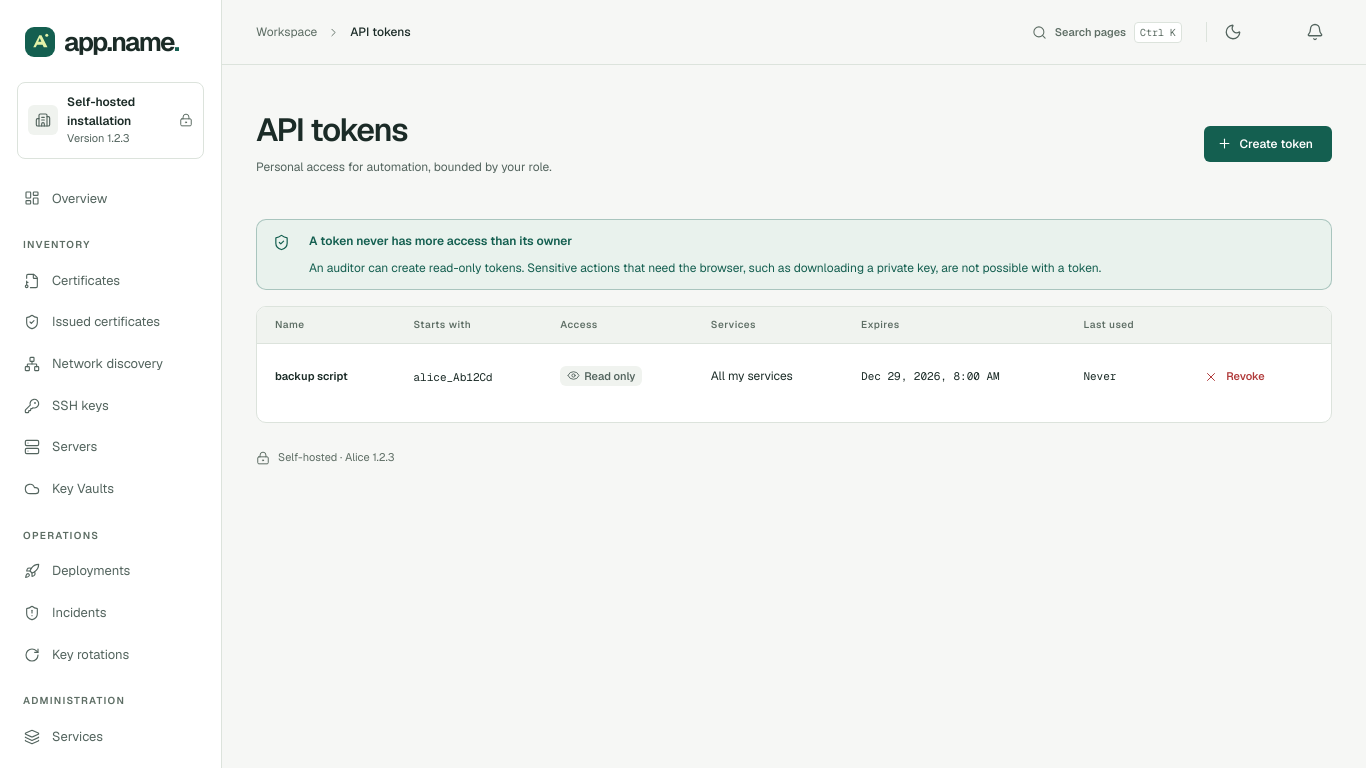
Test: TokensPage › keeps the dialogs open with the server error, and closes them on Cancel or close
Click the button "Create token": (1268, 144) [1204, 126, 1332, 162]
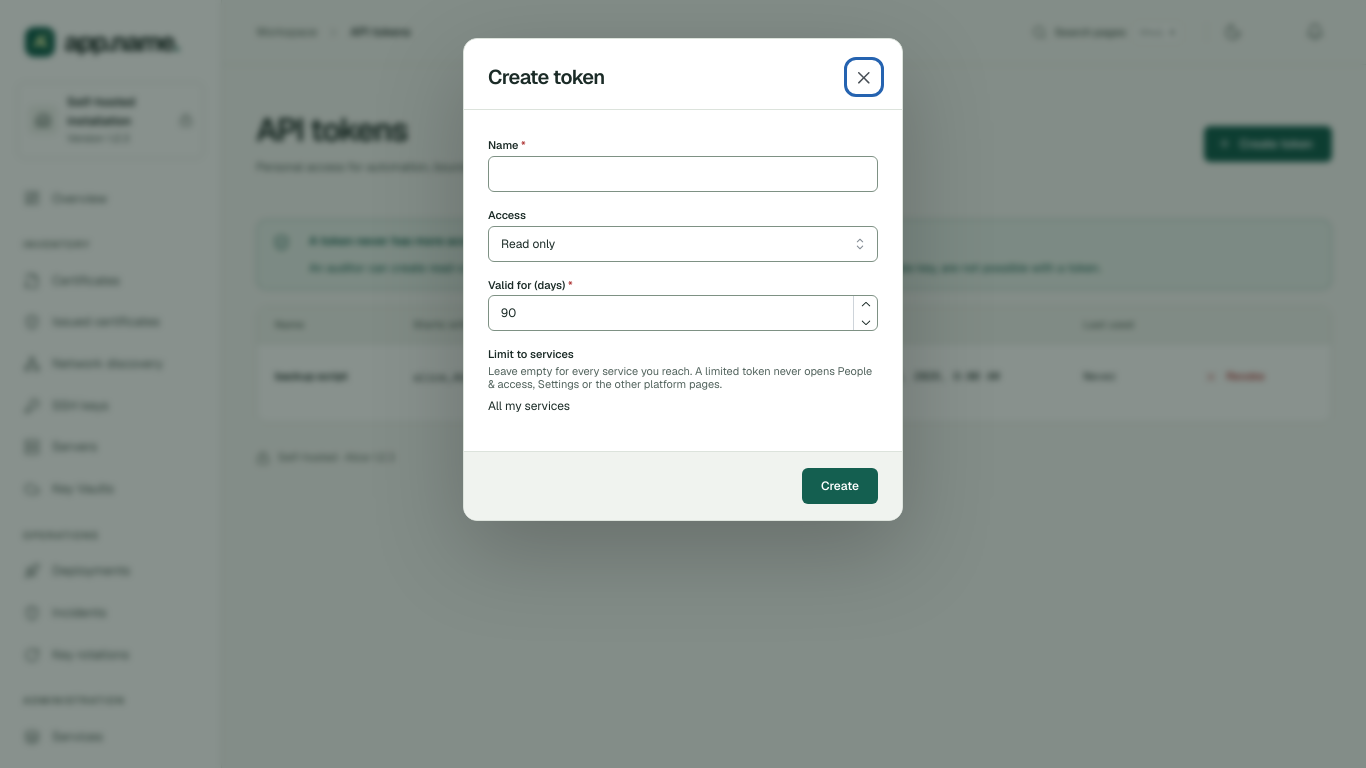
In the field labelled "Name *": (683, 174) [488, 156, 878, 192], type "ci"
Click the button "Create": (840, 486) [802, 468, 878, 504]
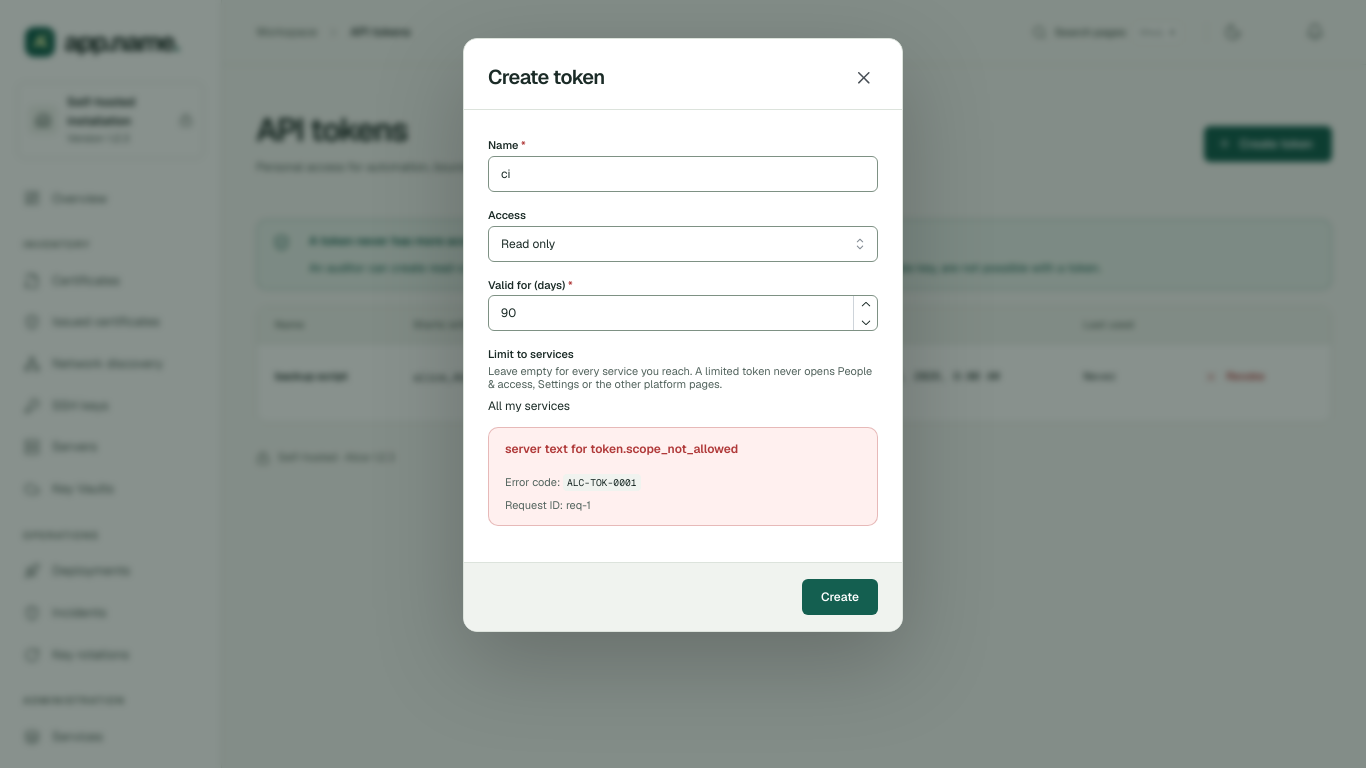
Expected: the message shows "ALC-TOK-0001", [567, 476, 636, 488]
Press Escape
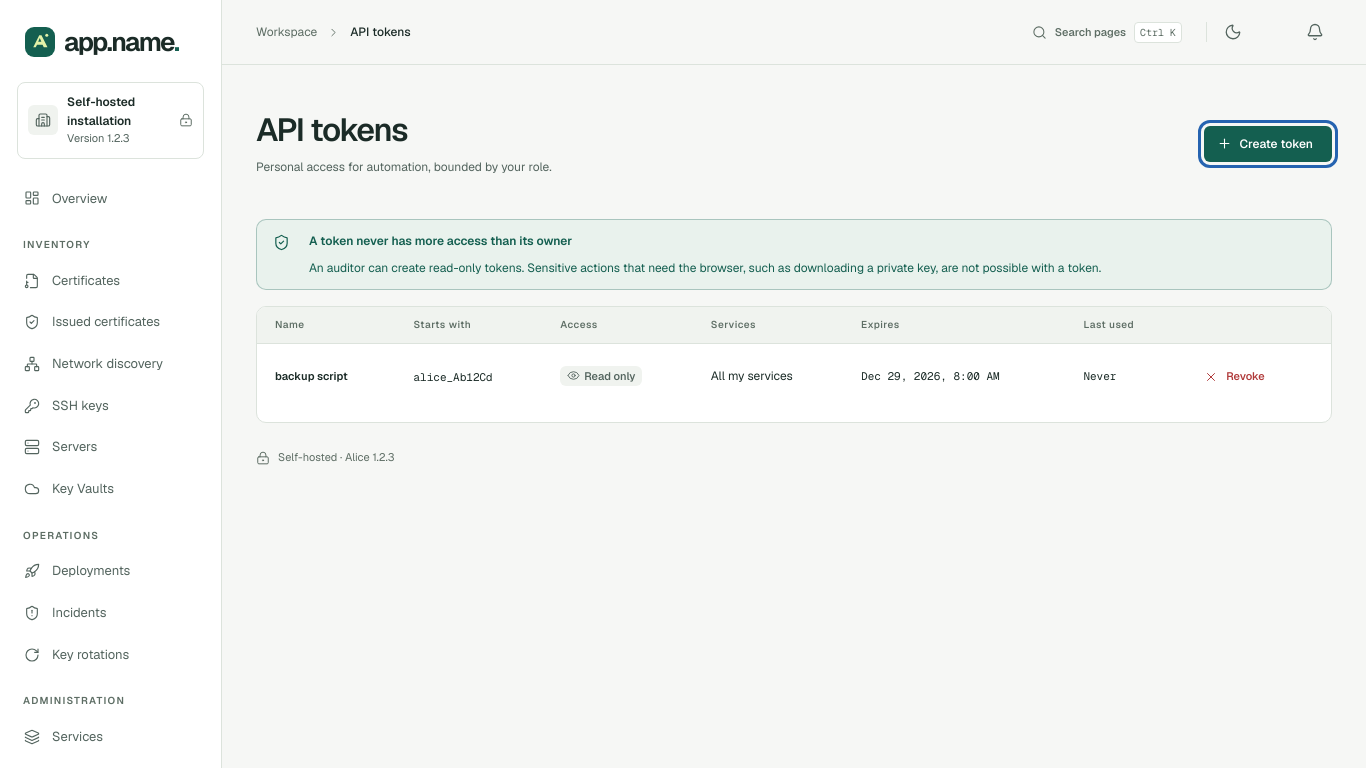
Expected: the dialog is gone
Click the button with aria-label "Revoke token backup script": (1237, 377) [1194, 362, 1280, 392]
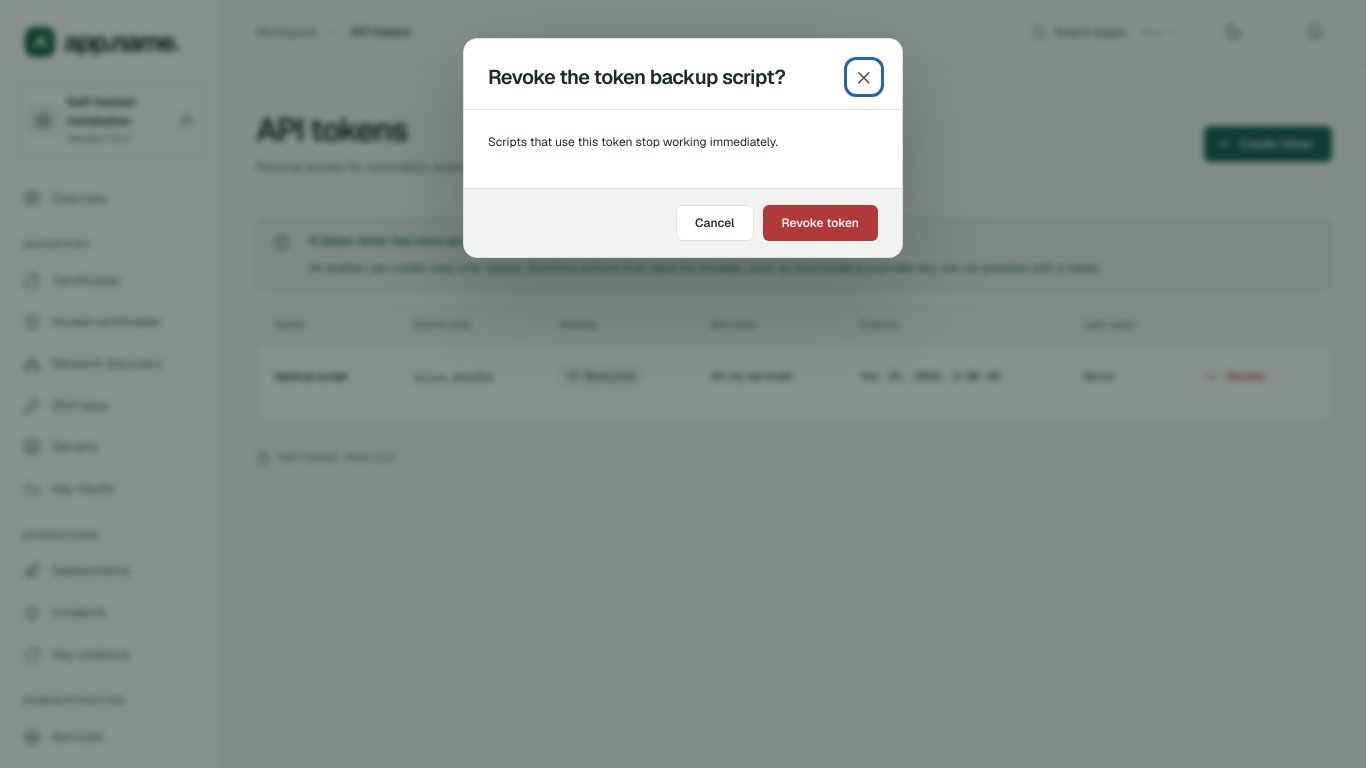
Click the button "Revoke token": (820, 223) [762, 205, 878, 241]
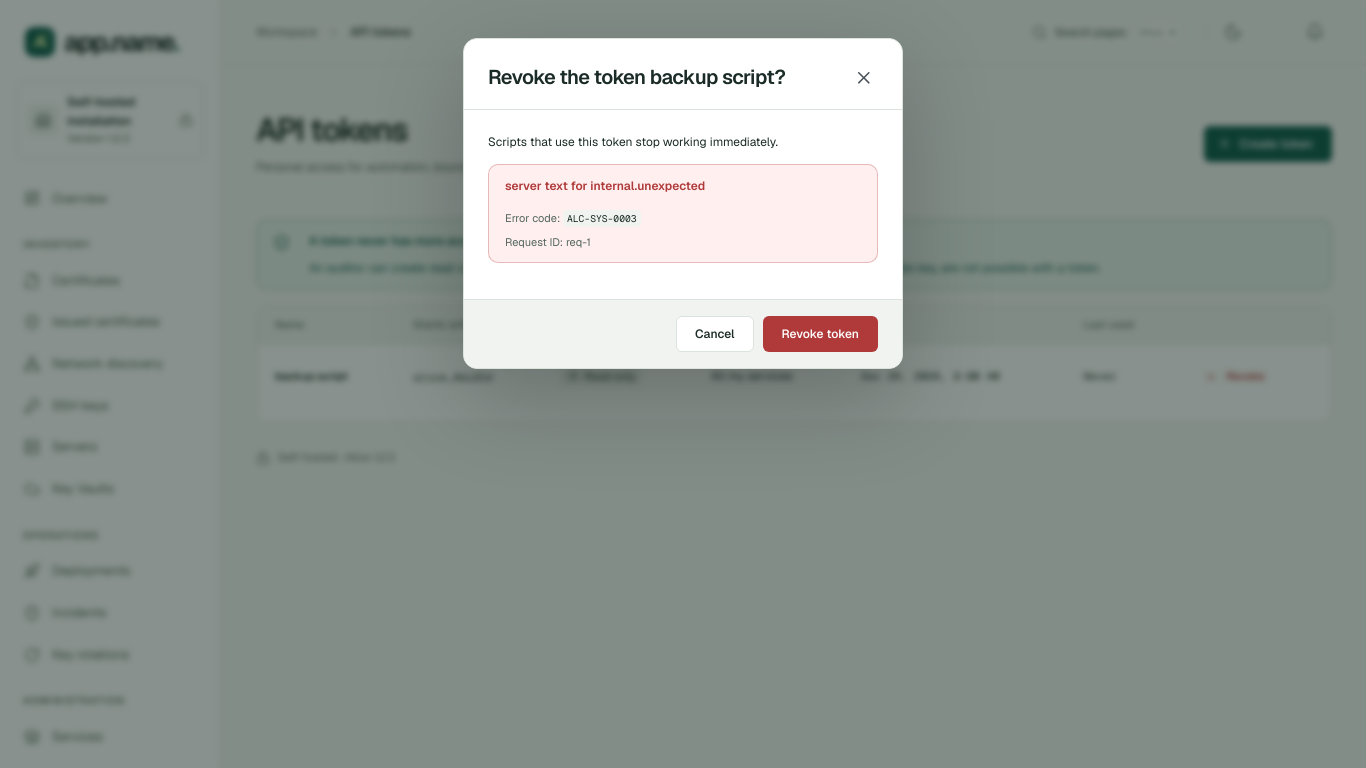
Expected: the message shows "ALC-SYS-0003", [567, 212, 636, 225]
Click the button "Cancel": (715, 334) [676, 316, 754, 352]
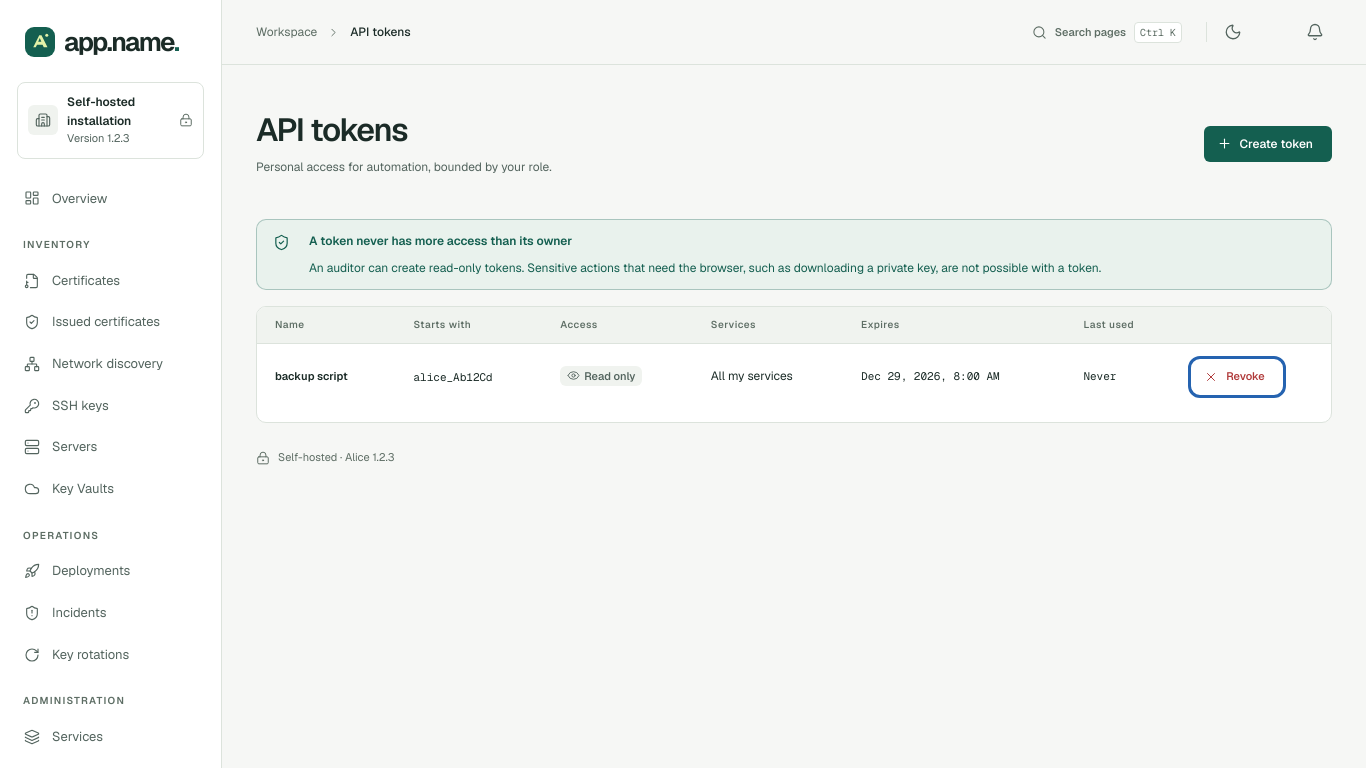
Expected: the dialog is gone
